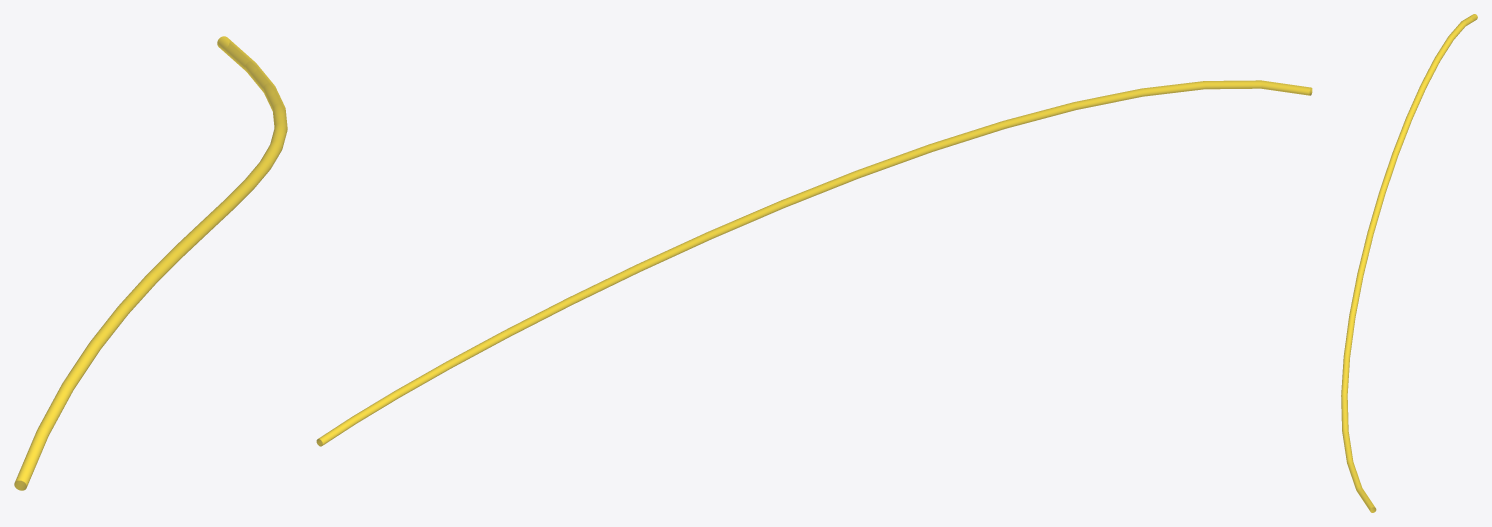
Rendered from Event_27938768_track_42.fbx.
The picture shows the model from 3 angles, left to right: view 1: azimuth 90°, elevation 25°; view 2: azimuth 210°, elevation 25°; view 3: azimuth 270°, elevation 25°; orthographic projection. The views are drawn at different scales.
Parts seen in each view (by area): view 1: Model; view 2: Model; view 3: Model.
Boxes of the visible parts, x1,y1,x2,y2 form: Model: (14, 36, 287, 490); Model: (316, 80, 1312, 446); Model: (1341, 14, 1477, 512).
Size of the model in its own units: 5.15 by 1.04 by 0.8307.
